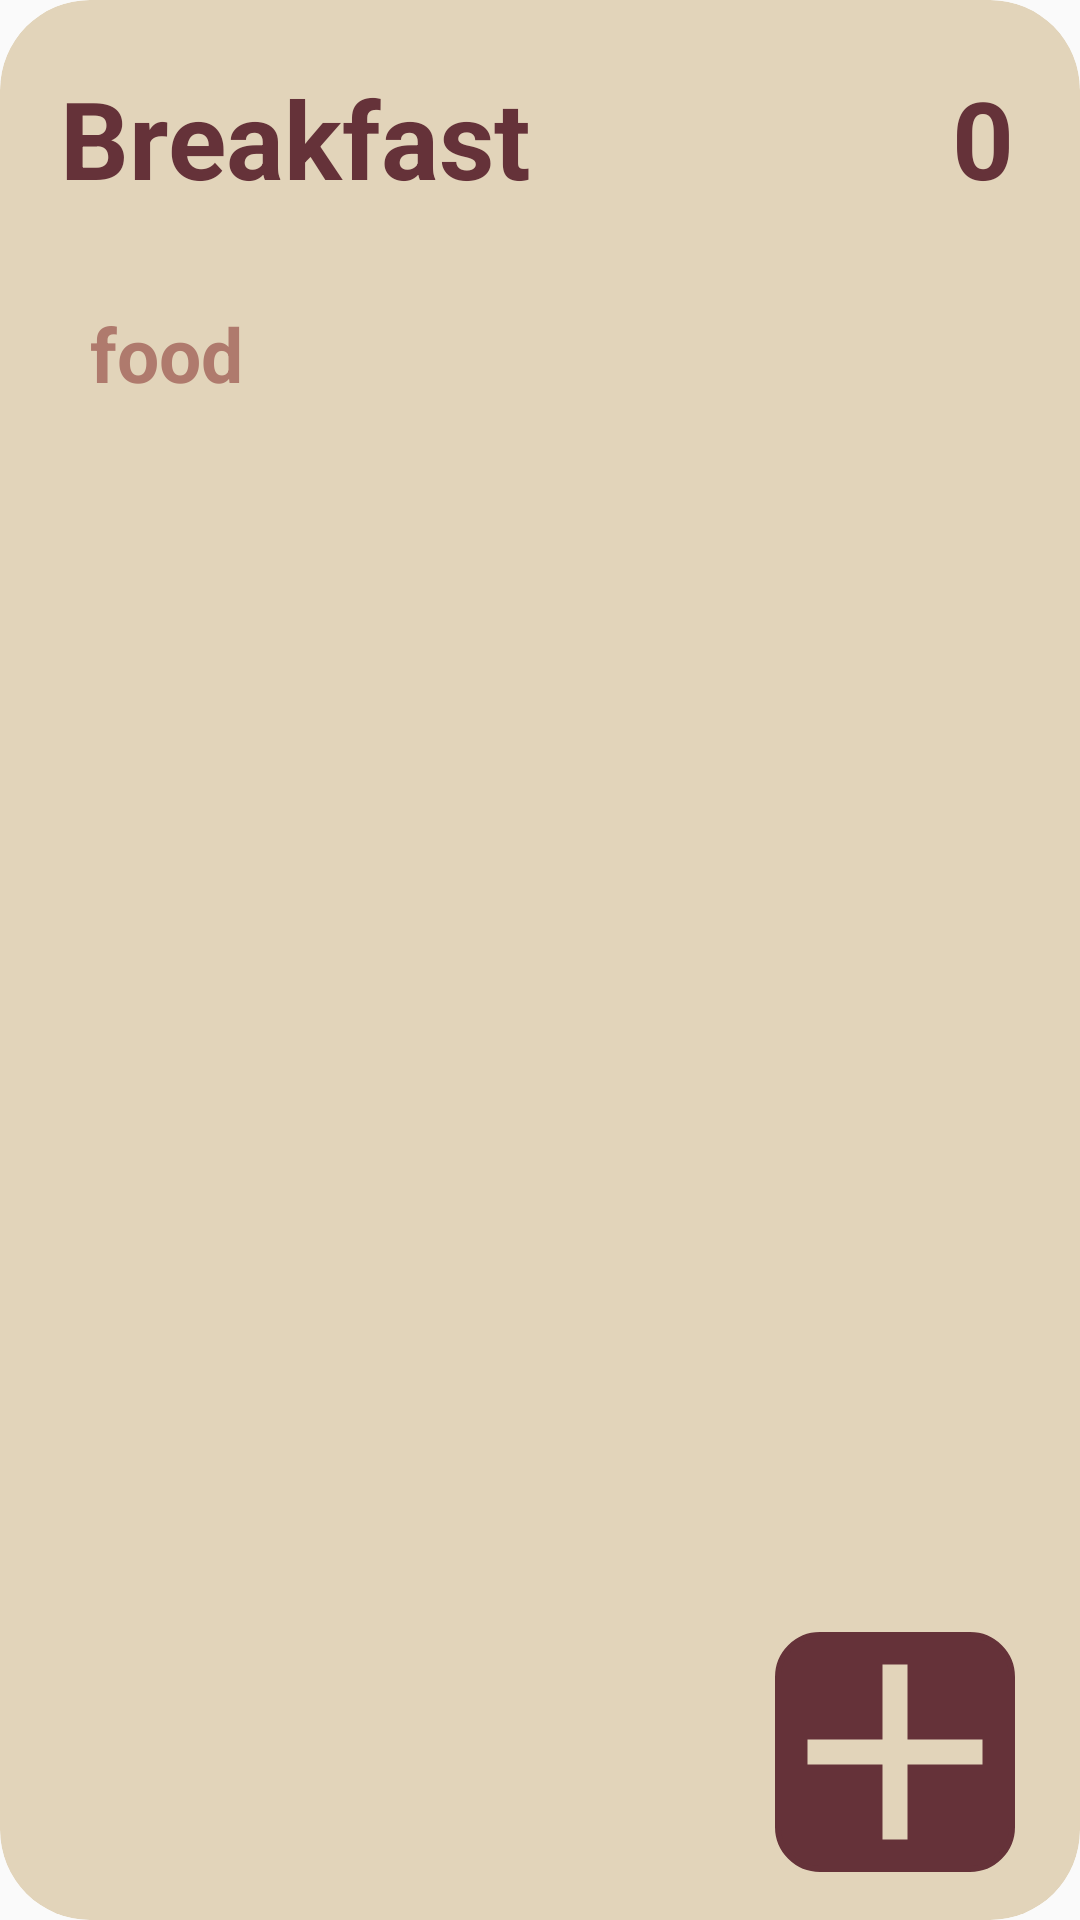

Named icons in this screenshot (1080px x 1920px) and their centers, [x,y]:
add: [895,1752]
